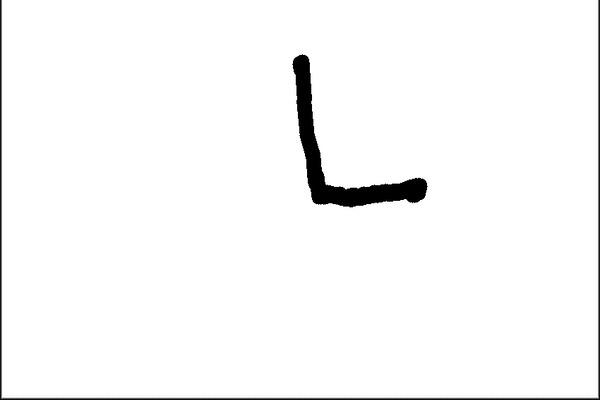L: (284, 45, 434, 216)
